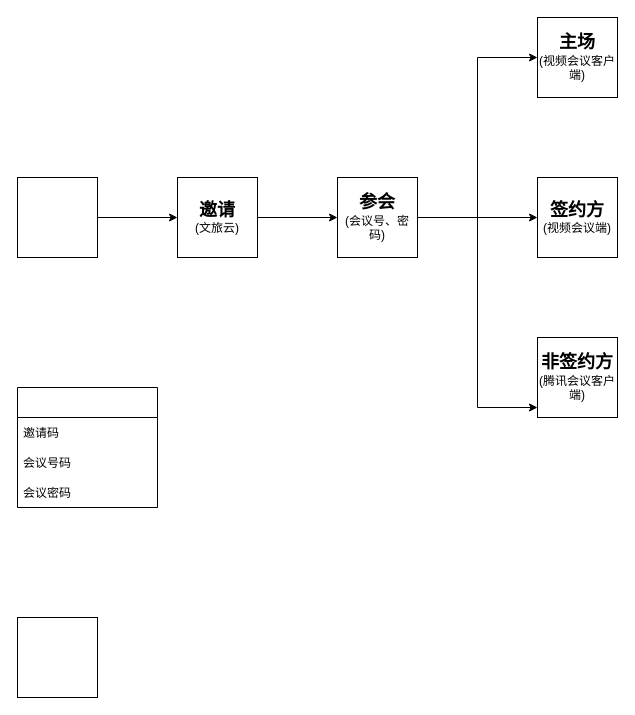
The diagram is 635 pixels wide and 715 high, and some of its shapes have lost their labels. The shapes that lost their labels are listed below. From the top down, each one's box as (x1, y1, x2, y2) in pixels, then its label:
(16, 176, 98, 258): 创建会议 （文旅云）
(16, 386, 158, 508): 邀请函
(16, 616, 98, 698): 签约方
